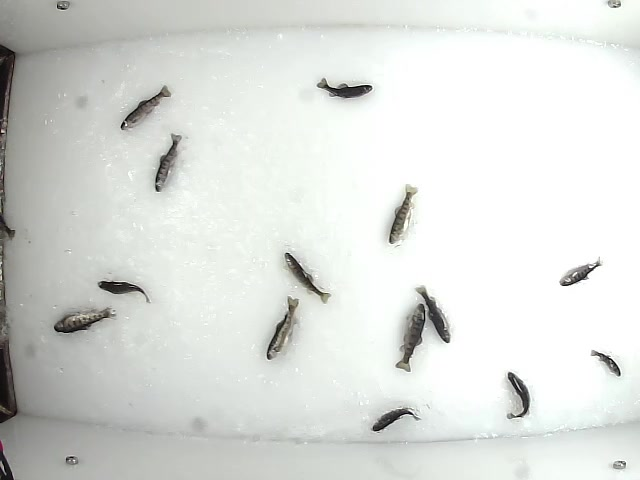fish: (283, 251, 334, 309), (118, 84, 173, 130), (414, 283, 451, 347), (394, 301, 426, 372), (267, 293, 300, 361), (50, 304, 118, 336), (387, 181, 419, 247), (152, 132, 184, 195), (556, 255, 604, 287), (96, 280, 153, 305), (315, 77, 373, 101), (504, 369, 530, 421), (371, 406, 421, 432), (589, 347, 624, 378)
